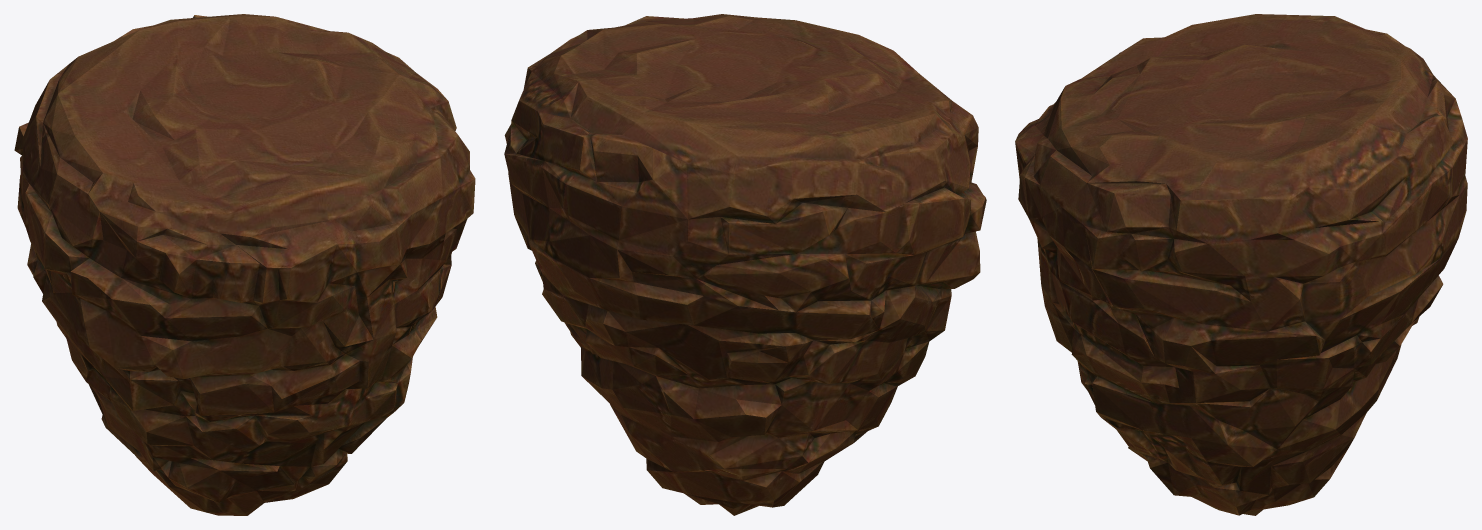
The picture shows the model from 3 angles, left to right: view 1: azimuth 30°, elevation 25°; view 2: azimuth 150°, elevation 25°; view 3: azimuth 270°, elevation 25°; orthographic projection. The views are drawn at different scales.
Parts seen in each view (by area): view 1: Rock_lowPoly:Group7947; view 2: Rock_lowPoly:Group7947; view 3: Rock_lowPoly:Group7947.
Part boxes in pixels (x1,y1,x2,y2): Rock_lowPoly:Group7947: (14, 14, 475, 515); Rock_lowPoly:Group7947: (504, 14, 986, 515); Rock_lowPoly:Group7947: (1015, 14, 1467, 515).
Bounding box in the file's own units: 1.9 × 2 × 1.85.
Materials: 1 (1 with a texture image).
